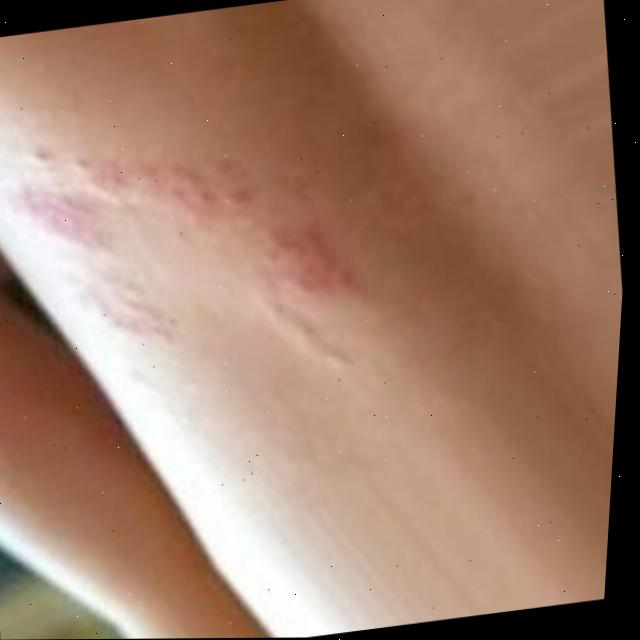Shingles: (0, 95, 379, 403)
